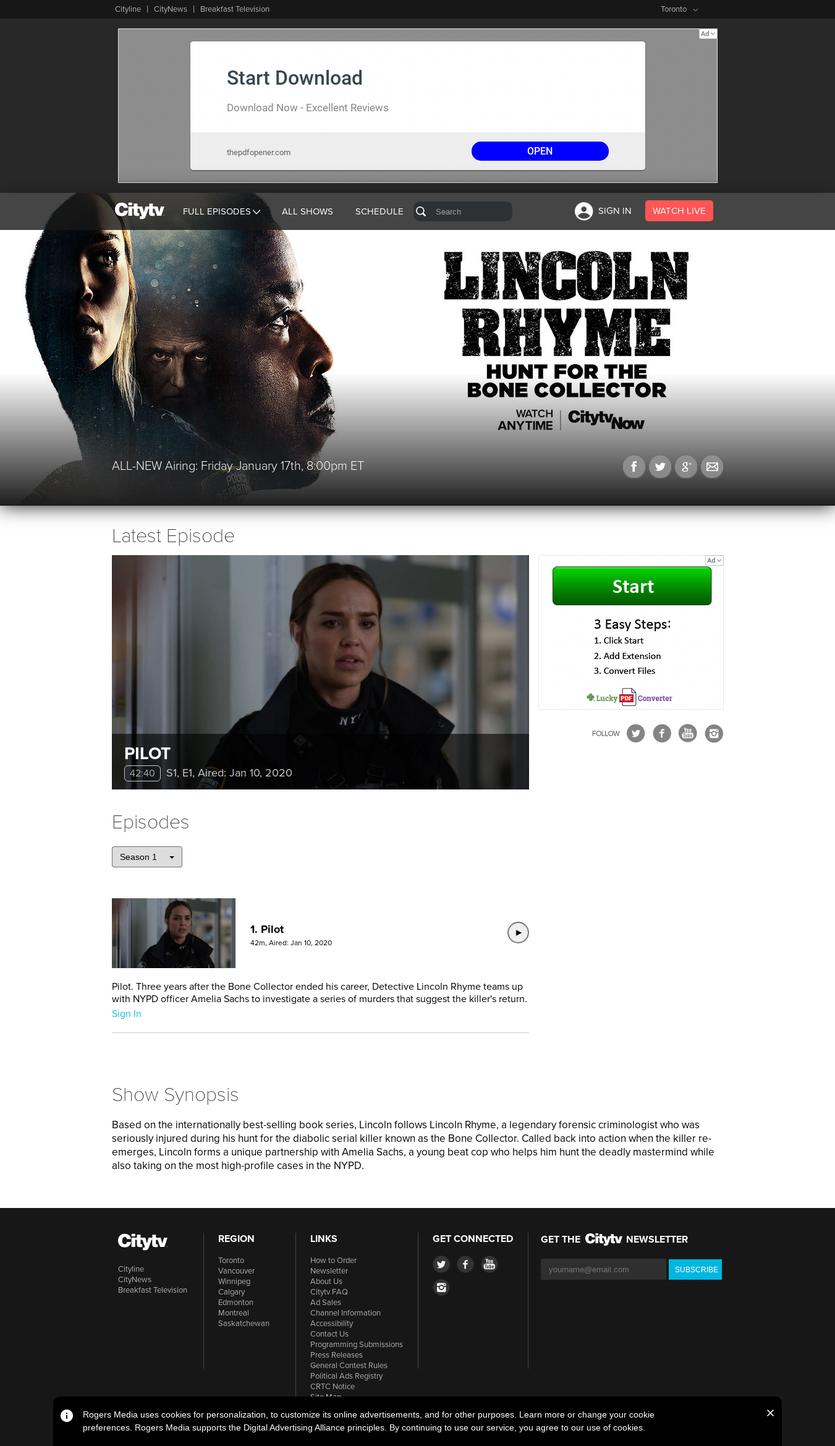fake_button: (544, 552, 731, 620)
